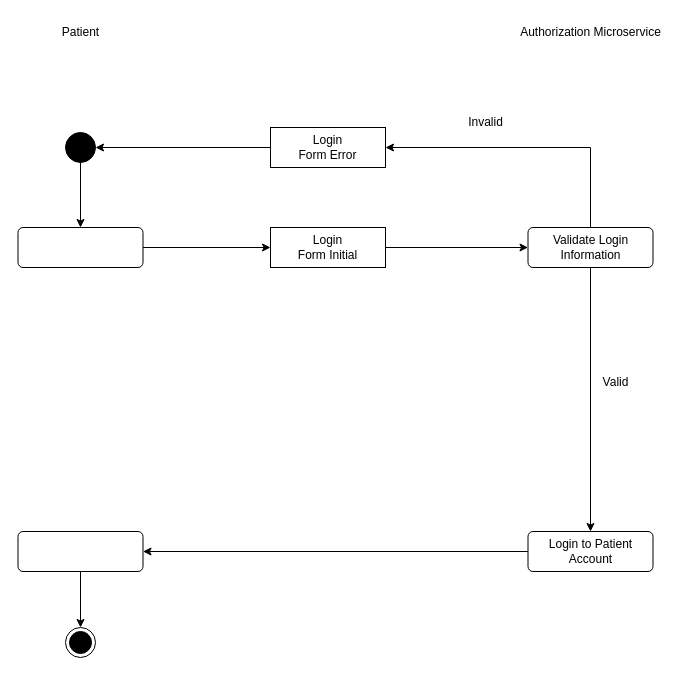
The diagram is 687 pixels wide and 675 high, and some of its shapes have lost their labels. The shapes that lost their labels are listed below. From the top down, each one's centre as x and y in pixels, then its label:
(x=80, y=247): Submit Login Information
(x=80, y=551): Show Patient Account
